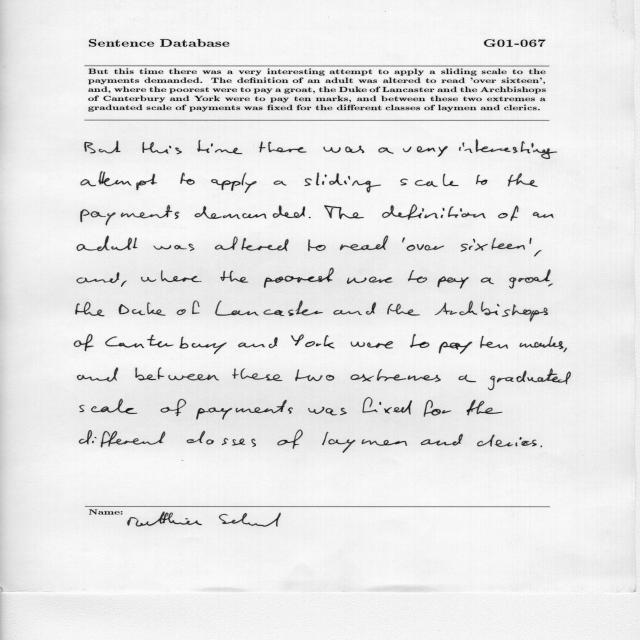word: (435, 301, 548, 322), (105, 335, 227, 354), (459, 139, 557, 159), (81, 205, 179, 225), (196, 400, 293, 420), (488, 369, 571, 391), (322, 432, 407, 453), (382, 204, 486, 220), (215, 301, 323, 316), (304, 172, 381, 193), (195, 205, 306, 219), (79, 430, 165, 447), (81, 172, 157, 191), (264, 268, 334, 288), (350, 369, 441, 382), (215, 236, 289, 251), (187, 431, 256, 447), (135, 368, 219, 381), (211, 173, 257, 193), (77, 236, 137, 251), (461, 238, 525, 252), (80, 399, 137, 414), (509, 269, 551, 289), (363, 398, 412, 415), (400, 173, 459, 187), (340, 236, 388, 251), (141, 271, 201, 283), (477, 435, 537, 447), (232, 368, 283, 381), (119, 302, 166, 316), (197, 140, 242, 154), (291, 335, 335, 349), (77, 367, 118, 382), (467, 400, 503, 416), (520, 336, 564, 349), (324, 205, 364, 219), (333, 302, 376, 315), (259, 142, 306, 153), (420, 434, 463, 446), (77, 272, 119, 284), (403, 146, 448, 157), (277, 430, 303, 449), (142, 142, 182, 154), (85, 141, 121, 154), (295, 370, 334, 382), (424, 400, 451, 417), (238, 337, 278, 348), (439, 341, 472, 354), (161, 399, 186, 416), (508, 173, 538, 187), (437, 276, 469, 289), (76, 302, 105, 316), (387, 304, 420, 316), (480, 336, 508, 349), (308, 407, 347, 416), (74, 334, 94, 351), (498, 205, 519, 221), (221, 271, 249, 283), (351, 341, 393, 349), (324, 146, 365, 154), (347, 277, 393, 284), (177, 301, 200, 315), (153, 244, 195, 251), (410, 334, 429, 348), (407, 244, 444, 251), (408, 270, 427, 283), (308, 240, 326, 252), (180, 172, 195, 185), (476, 174, 488, 185), (533, 212, 554, 218), (459, 375, 476, 382), (379, 147, 394, 154), (481, 278, 494, 284), (274, 181, 287, 186), (534, 250, 541, 257), (121, 281, 127, 287), (548, 283, 553, 287), (402, 237, 405, 243), (563, 348, 567, 352), (530, 238, 532, 244), (309, 217, 311, 218), (541, 446, 542, 448)
